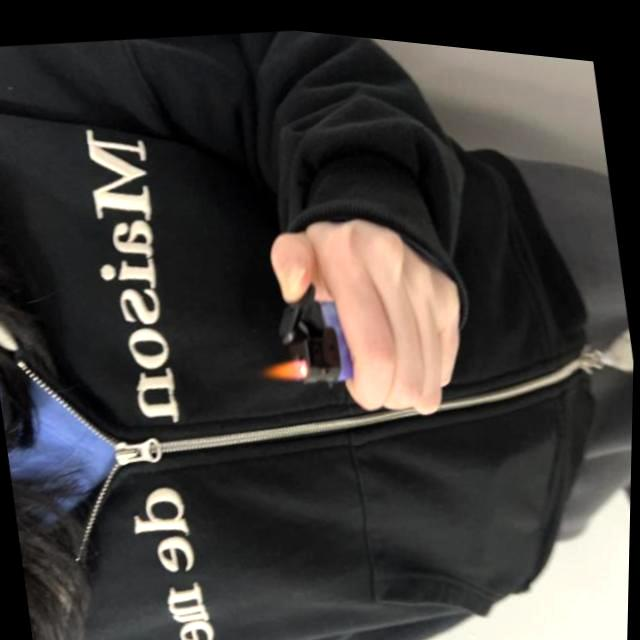fire: (264, 348, 312, 386)
